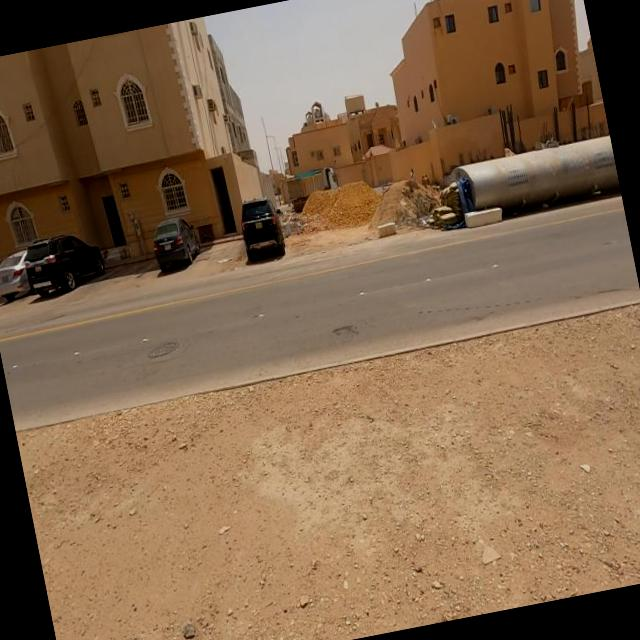debris: (259, 183, 334, 276)
